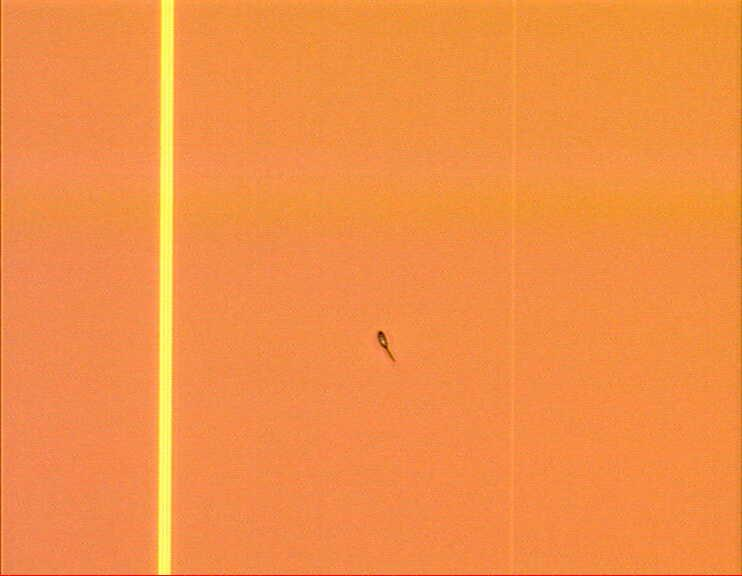PIQ PARTICLE: (373, 328, 402, 367)
